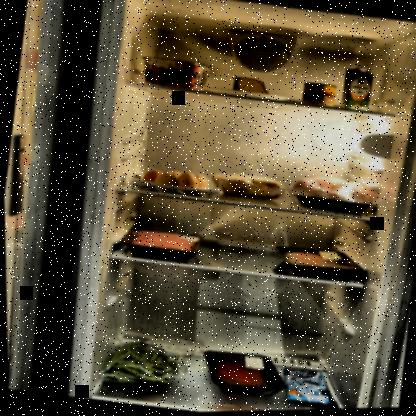beef: (194, 346, 291, 404)
cheese: (229, 75, 274, 103)
chicken: (284, 167, 377, 220), (269, 242, 364, 286)
chocolate: (275, 366, 335, 410)
corn: (298, 79, 339, 110)
eggs: (139, 165, 210, 198)
green_beans: (96, 334, 193, 397)
ground_beef: (117, 224, 203, 264)
heavy_cream: (339, 65, 375, 114)
strawberries: (140, 55, 210, 94)
